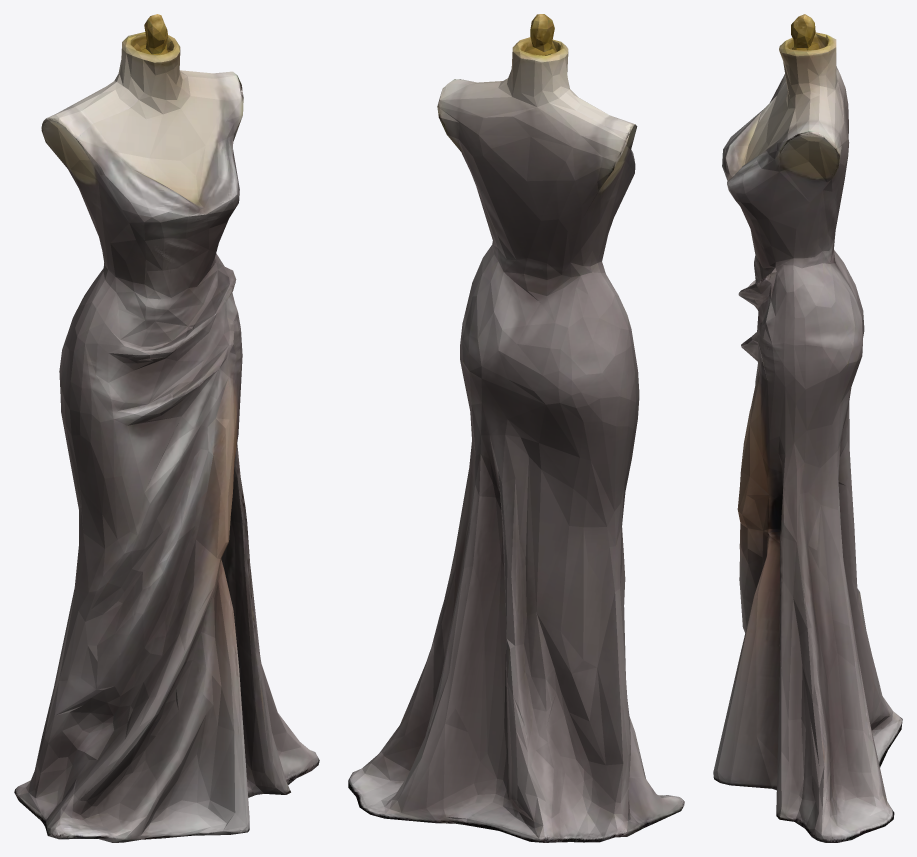
The picture shows the model from 3 angles, left to right: view 1: azimuth 30°, elevation 25°; view 2: azimuth 150°, elevation 25°; view 3: azimuth 270°, elevation 25°; orthographic projection. The views are drawn at different scales.
Visible parts, largest first — view 1: geometry_0; view 2: geometry_0; view 3: geometry_0.
Boxes of the visible parts, x1,y1,x2,y2 form: geometry_0: [14, 14, 319, 842]; geometry_0: [348, 14, 684, 842]; geometry_0: [713, 14, 902, 842].
Bounding box in the file's own units: 0.3921 × 0.9982 × 0.2287.
1 material, 1 textured.
